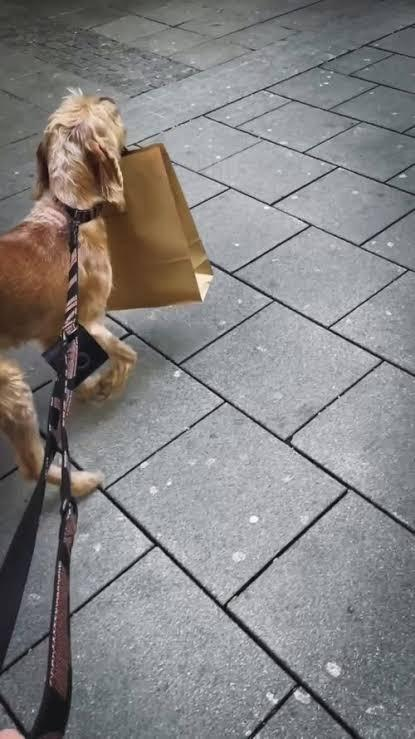adult_dog: (0, 86, 138, 499)
